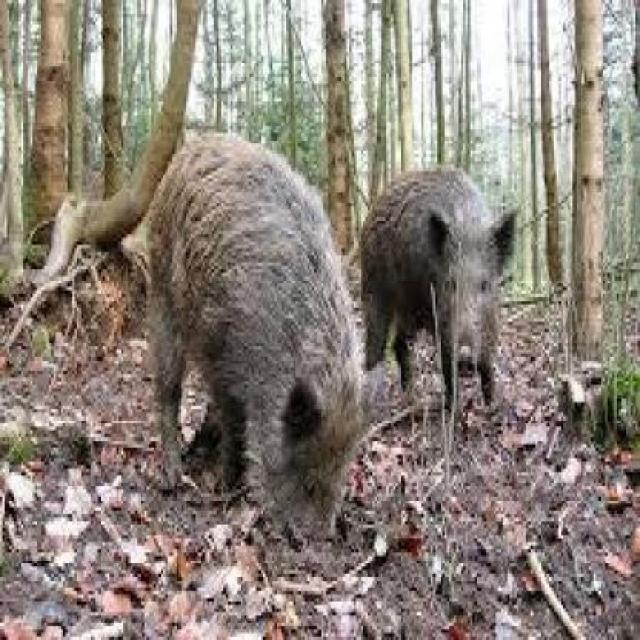Wild Boar: (140, 125, 389, 548), (352, 161, 522, 427)
